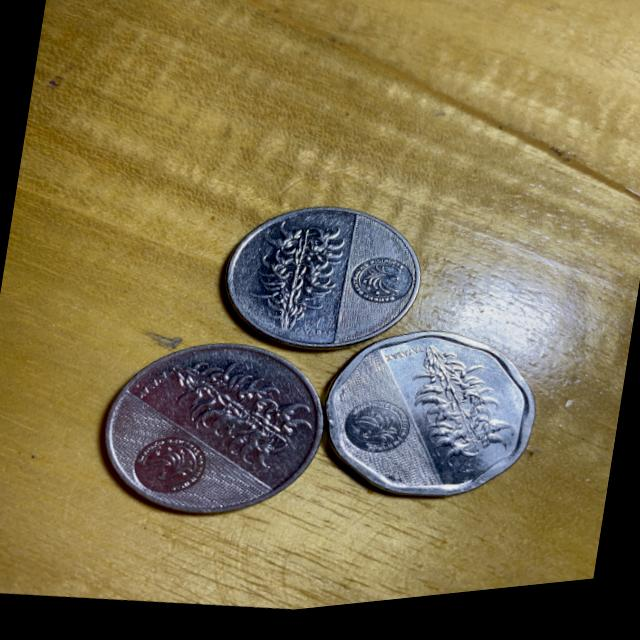5_New_Back: (152, 349, 322, 485), (396, 339, 520, 486), (234, 218, 352, 356)
